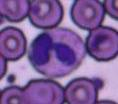M: (29, 28, 86, 78)
